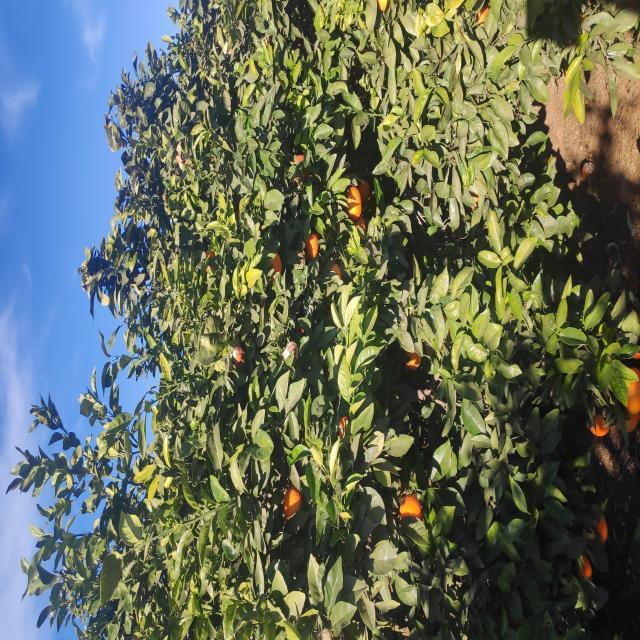Jeruk Sudah Matang: (420, 343, 454, 362), (228, 625, 271, 640), (207, 614, 231, 640), (121, 399, 147, 422), (120, 283, 152, 301), (203, 590, 228, 610), (272, 404, 294, 421), (612, 475, 636, 490), (96, 596, 126, 608), (382, 304, 407, 318), (436, 356, 459, 371), (458, 294, 486, 306), (366, 202, 391, 215), (61, 580, 88, 592), (274, 231, 295, 244), (366, 270, 388, 280), (360, 332, 378, 342), (204, 338, 224, 347), (406, 356, 423, 366)
